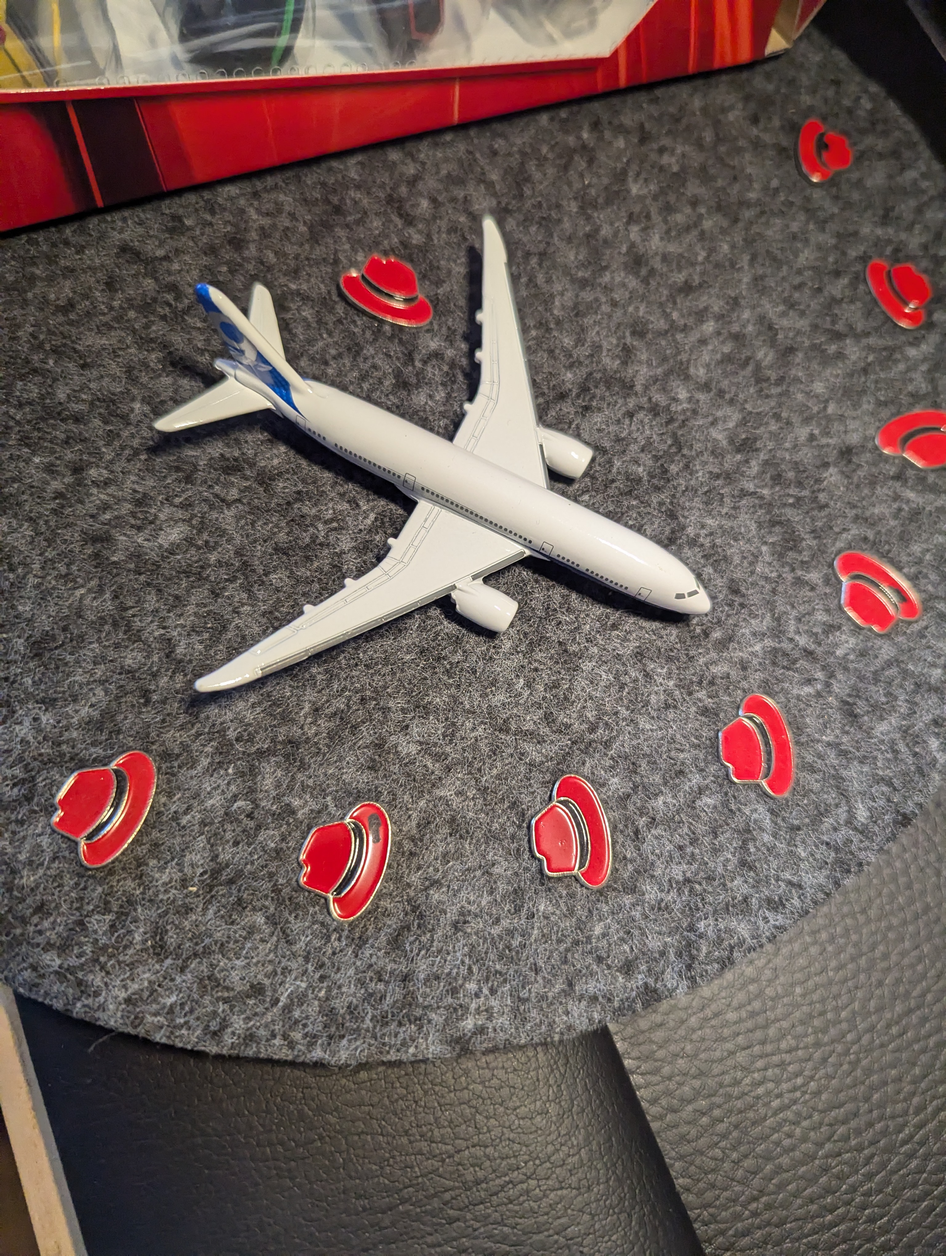Airplane: (107, 177, 733, 698)
Red-Hat: (46, 727, 196, 893), (289, 774, 402, 932), (512, 749, 626, 904), (709, 676, 828, 819), (327, 230, 447, 341), (818, 534, 929, 651), (853, 241, 944, 341), (783, 91, 869, 189), (865, 391, 946, 488)
Scratch: (874, 569, 920, 619), (356, 804, 390, 854), (813, 133, 836, 160)
